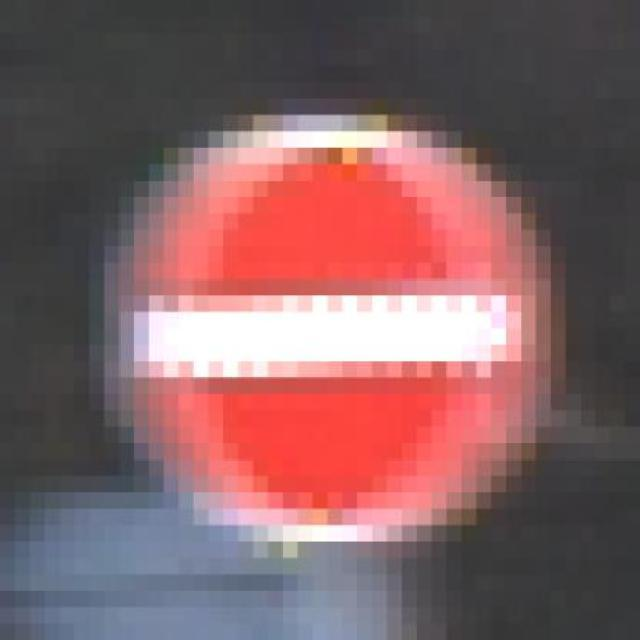B2: (102, 107, 558, 545)
